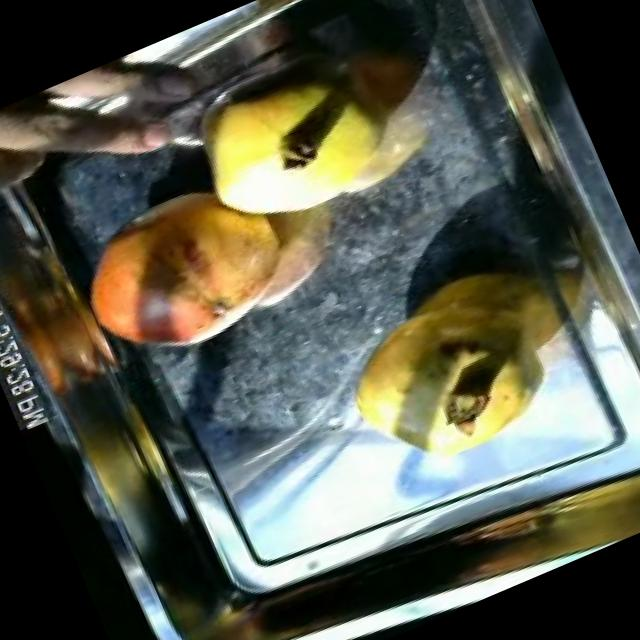fruit: (310, 257, 576, 498), (51, 147, 315, 381), (156, 28, 414, 262)
